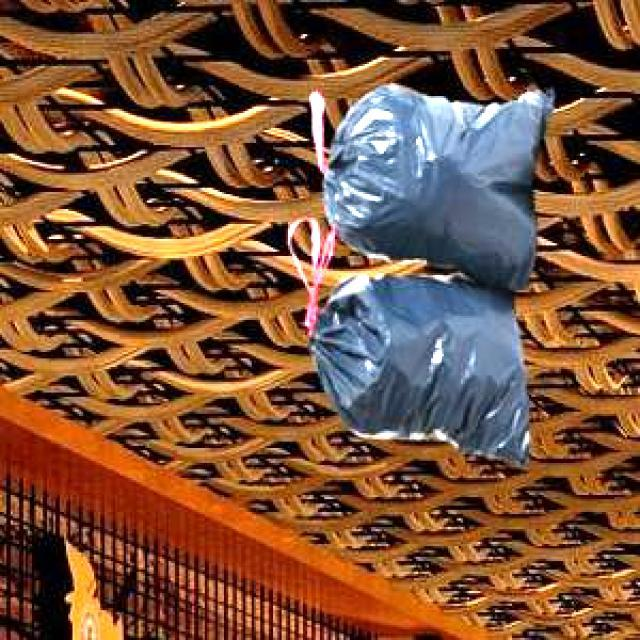Garbage_Bag: (302, 82, 550, 464)
